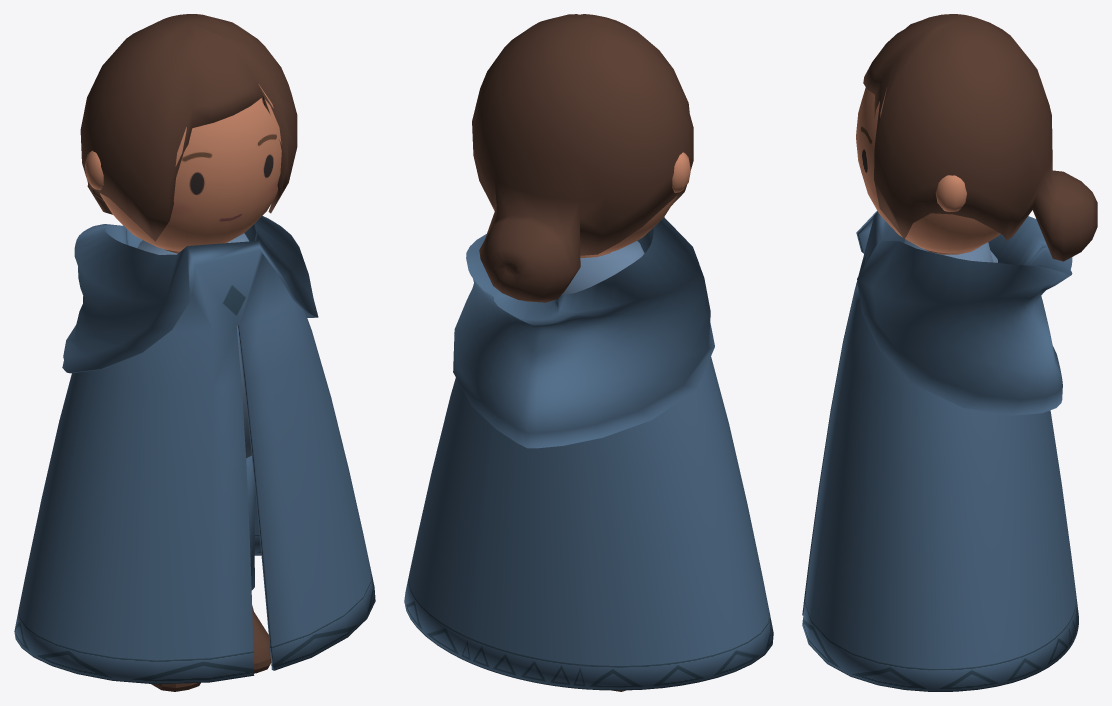
The model's file is traveller_drawing.glb.
3 views of the same model, side by side, from view 1: azimuth 30°, elevation 25°; view 2: azimuth 150°, elevation 25°; view 3: azimuth 270°, elevation 25° (orthographic). The views are drawn at different scales.
Parts seen in each view (by area): view 1: Garment, Hair, Head, Body, Boots; view 2: Garment, Hair, Body, Head; view 3: Garment, Hair, Head, Body.
Part boxes in pixels (<box>): Garment: <box>14,216,375,684</box>; Hair: <box>80,14,297,241</box>; Head: <box>100,84,281,251</box>; Body: <box>85,150,254,590</box>; Boots: <box>151,606,271,691</box>; Garment: <box>404,217,773,690</box>; Hair: <box>472,14,693,302</box>; Body: <box>551,152,690,301</box>; Head: <box>599,195,677,253</box>; Garment: <box>802,211,1078,691</box>; Hair: <box>863,14,1097,261</box>; Head: <box>856,87,1000,253</box>; Body: <box>904,175,997,262</box>.
Bounding box in the file's own units: 1.76 × 3.19 × 1.34.
Materials: 2 (2 with a texture image).
